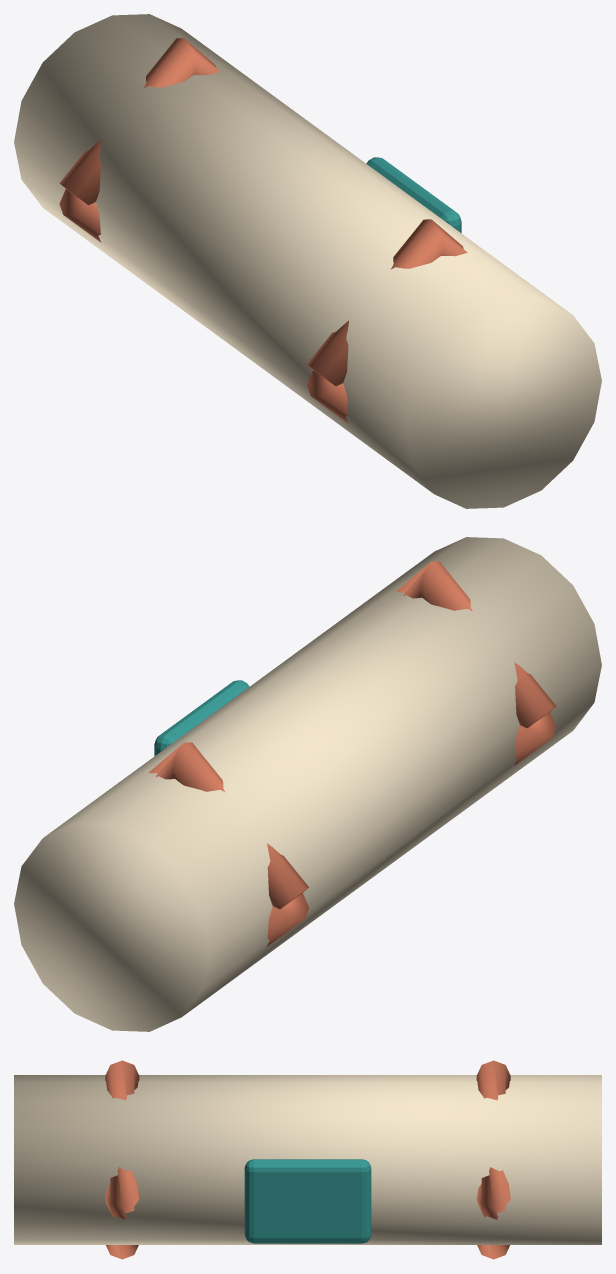
The model's file is banner.glb.
The picture shows the model from 3 angles, top to bottom: view 1: azimuth 30°, elevation 25°; view 2: azimuth 150°, elevation 25°; view 3: azimuth 270°, elevation 25°; orthographic projection. The views are drawn at different scales.
Parts seen in each view (by area): view 1: GEO-banner; view 2: GEO-banner; view 3: GEO-banner.
Boxes of the visible parts, x1=… form: GEO-banner: x1=14, y1=14, x2=601, y2=508; GEO-banner: x1=14, y1=537, x2=601, y2=1031; GEO-banner: x1=14, y1=1060, x2=601, y2=1259.
Bounding box in the file's own units: 0.1388 × 0.142 × 0.38.
